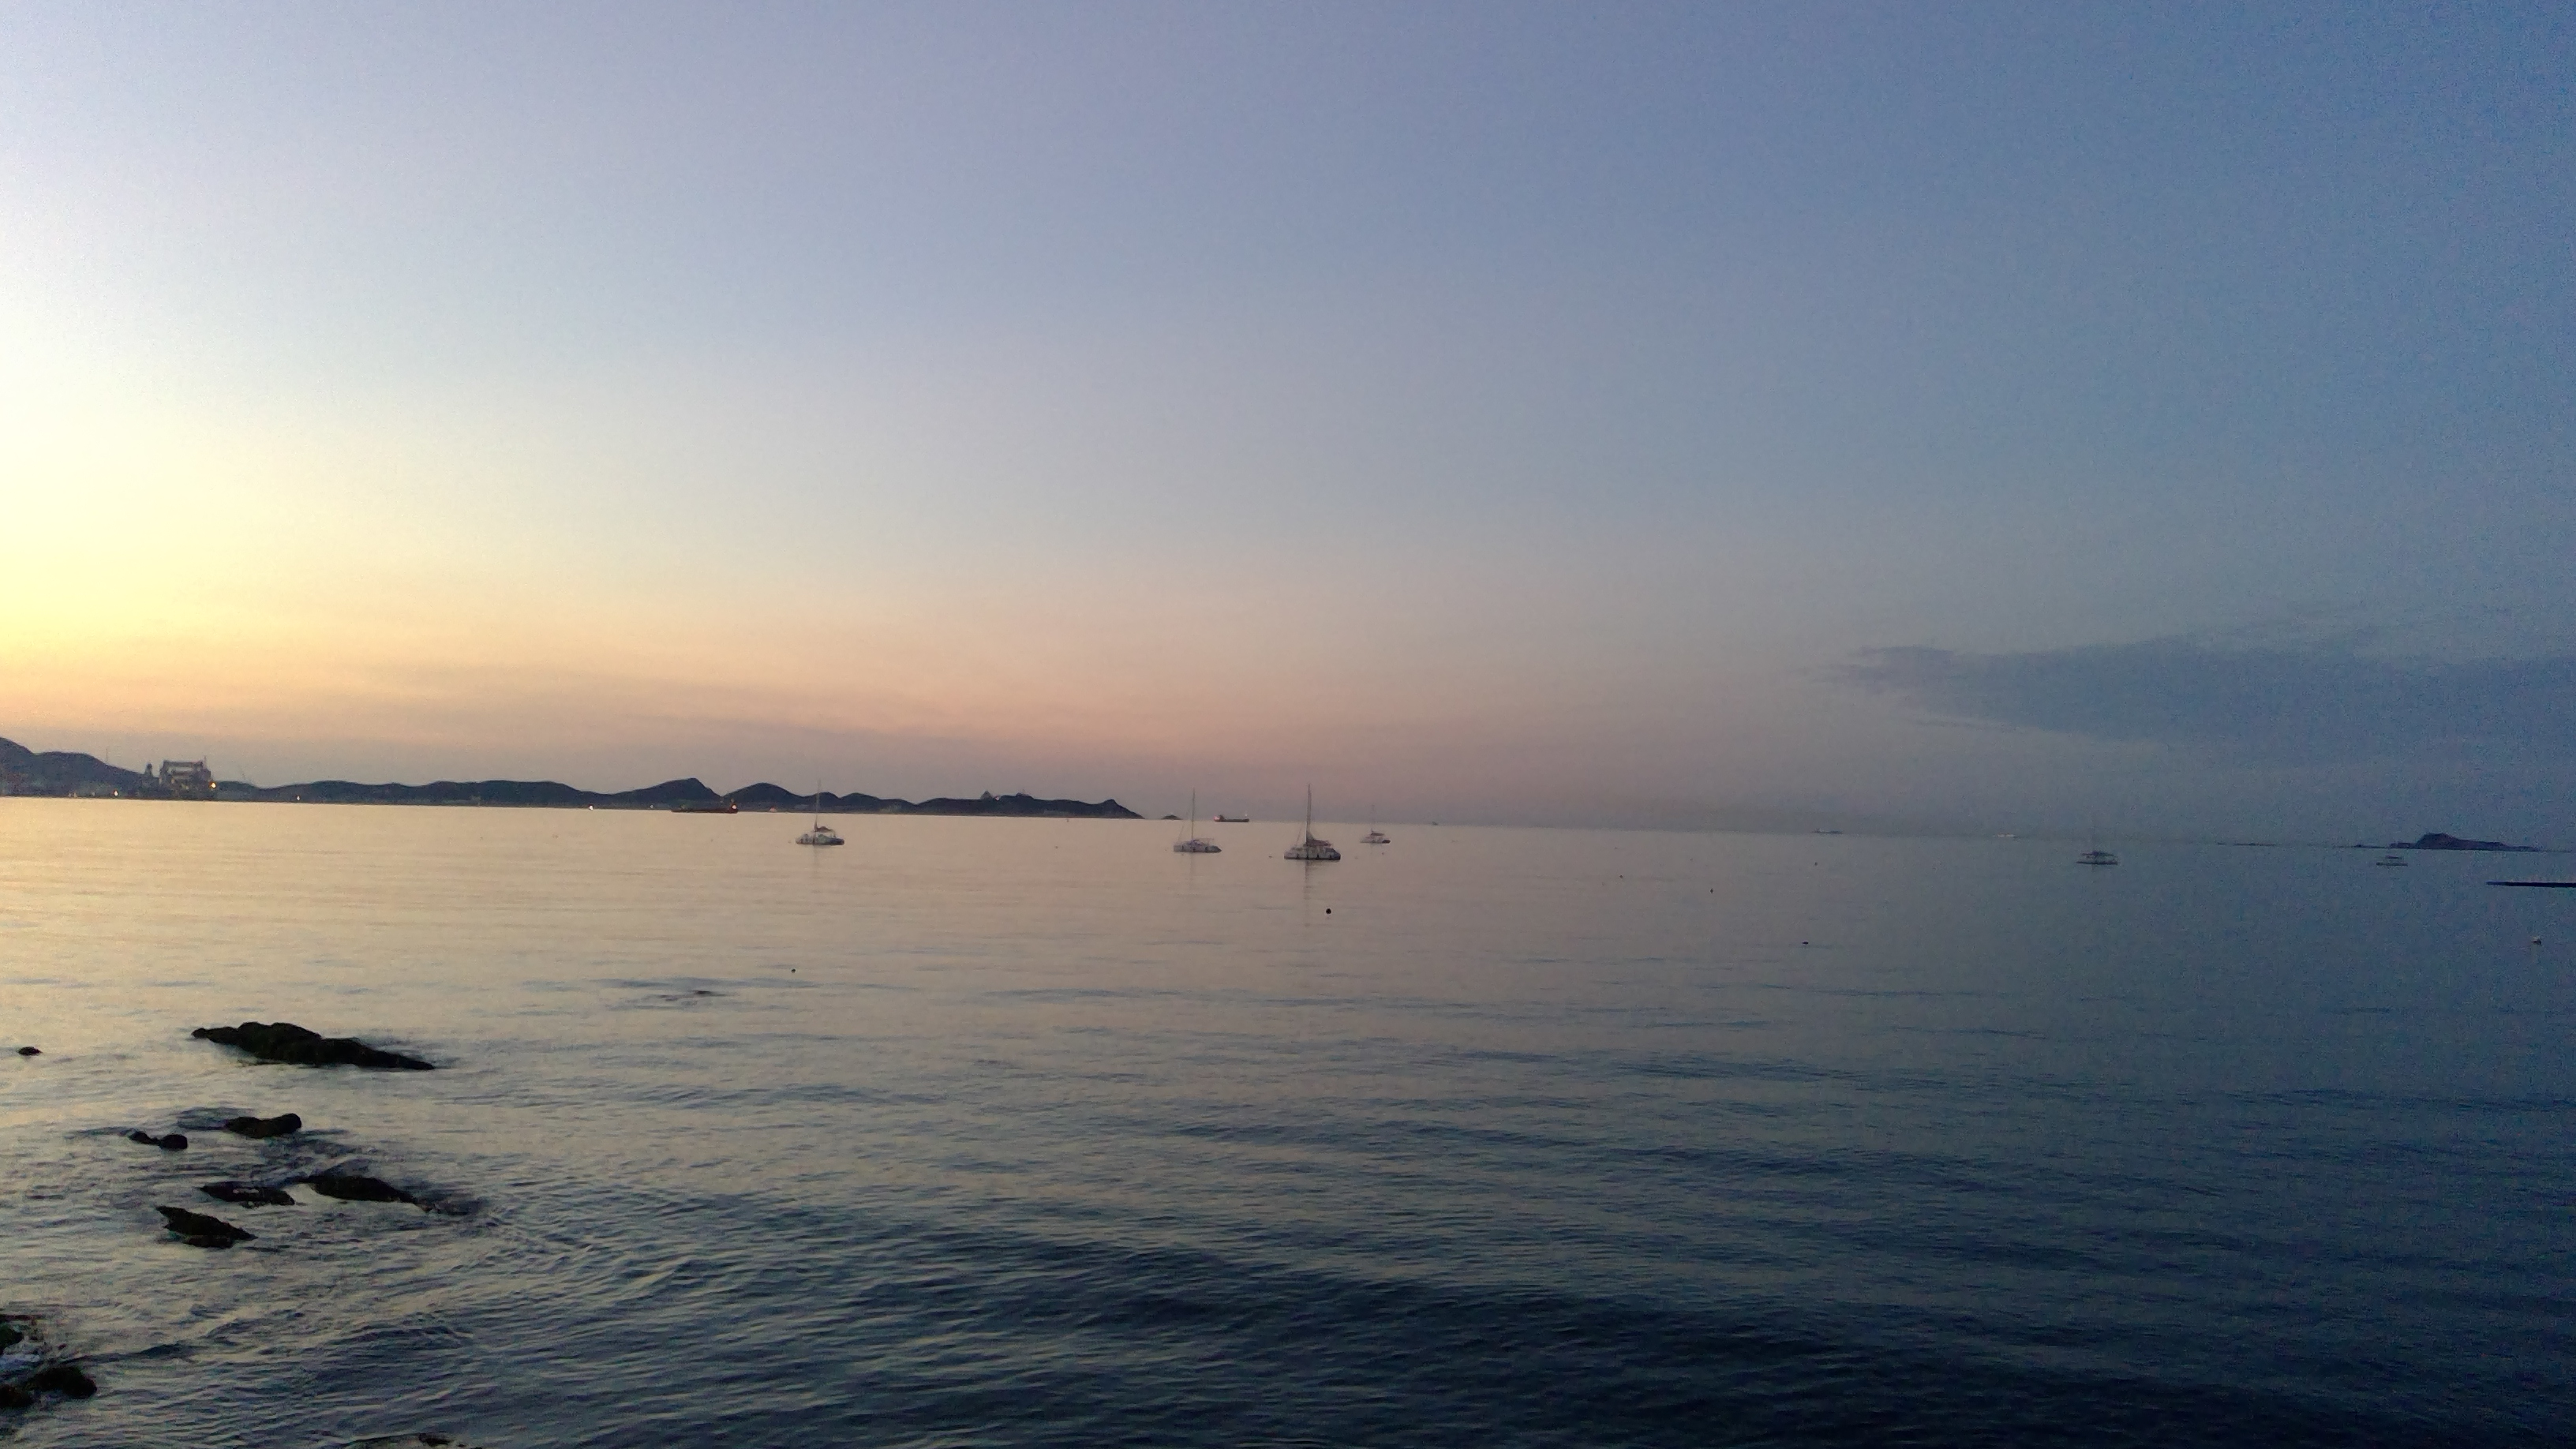boat: (1274, 771, 1350, 869), (1157, 773, 1224, 863), (796, 812, 844, 855)
rock: (97, 1086, 478, 1279), (170, 978, 465, 1090), (0, 1341, 124, 1426), (16, 1031, 51, 1070)
